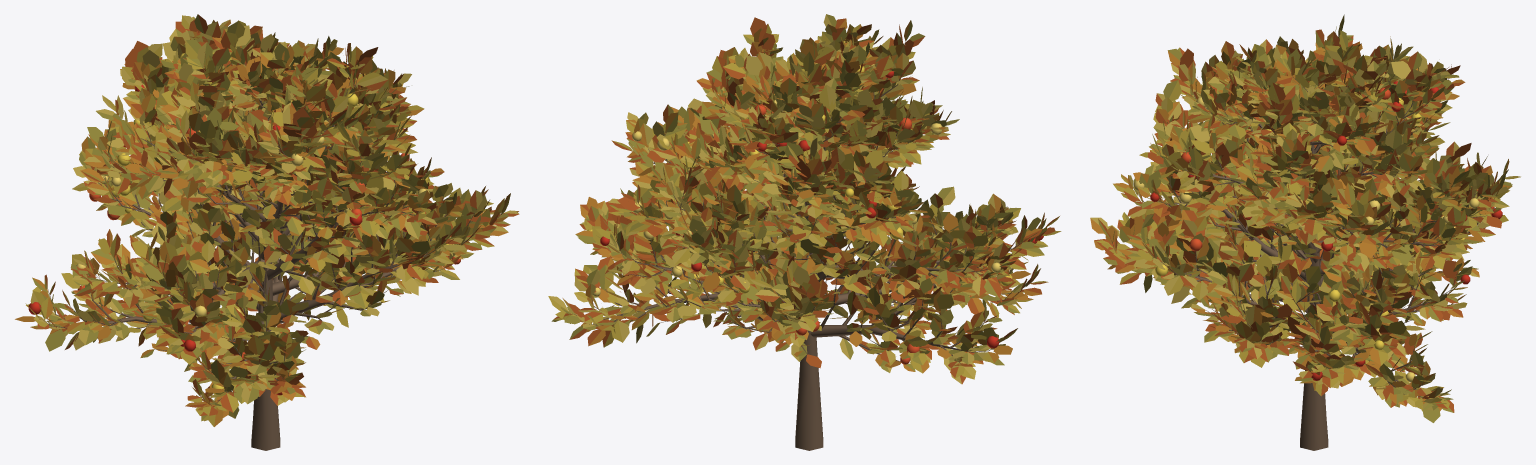
Rendered from pommier_bicolore_automne.glb.
The picture shows the model from 3 angles, left to right: view 1: azimuth 30°, elevation 25°; view 2: azimuth 150°, elevation 25°; view 3: azimuth 270°, elevation 25°; orthographic projection. The views are drawn at different scales.
Parts seen in each view (by area): view 1: Pommier_Feuillage, Pommier_Tronc, Pommier_Pommes; view 2: Pommier_Feuillage, Pommier_Tronc, Pommier_Pommes; view 3: Pommier_Feuillage, Pommier_Tronc, Pommier_Pommes.
Part boxes in pixels (x1,y1,x2,y2): Pommier_Feuillage: (15,14,519,426); Pommier_Tronc: (38,38,503,450); Pommier_Pommes: (28,53,460,395); Pommier_Feuillage: (548,14,1061,384); Pommier_Tronc: (570,42,1042,450); Pommier_Pommes: (587,64,1043,364); Pommier_Feuillage: (1090,14,1520,422); Pommier_Tronc: (1111,47,1501,450); Pommier_Pommes: (1133,57,1502,382).
Size of the model in its own units: 5.11 by 4.41 by 4.23.
